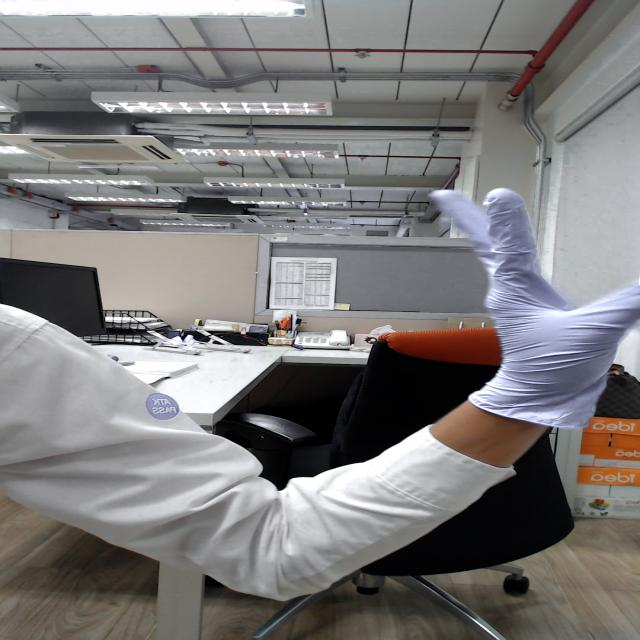glove: (414, 177, 640, 375)
